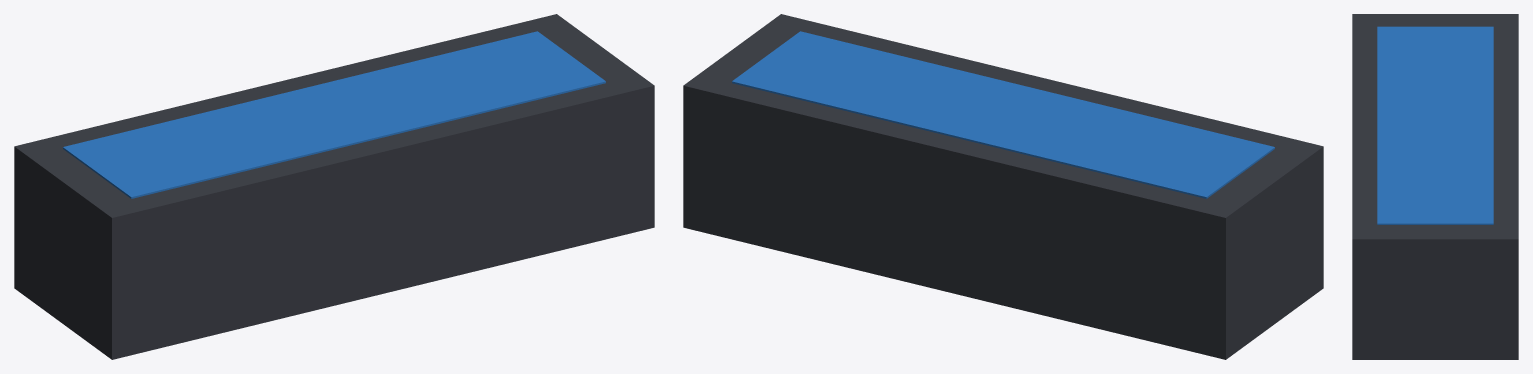
File: water_trough.glb
The picture shows the model from 3 angles, left to right: view 1: azimuth 30°, elevation 25°; view 2: azimuth 150°, elevation 25°; view 3: azimuth 270°, elevation 25°; orthographic projection. The views are drawn at different scales.
Visible parts, largest first — view 1: water_trough; view 2: water_trough; view 3: water_trough.
Part boxes in pixels (x1,y1,x2,y2): water_trough: (14, 14, 654, 359); water_trough: (683, 14, 1323, 359); water_trough: (1352, 14, 1518, 359).
Size of the model in its own units: 1.6 by 0.405 by 0.5.
